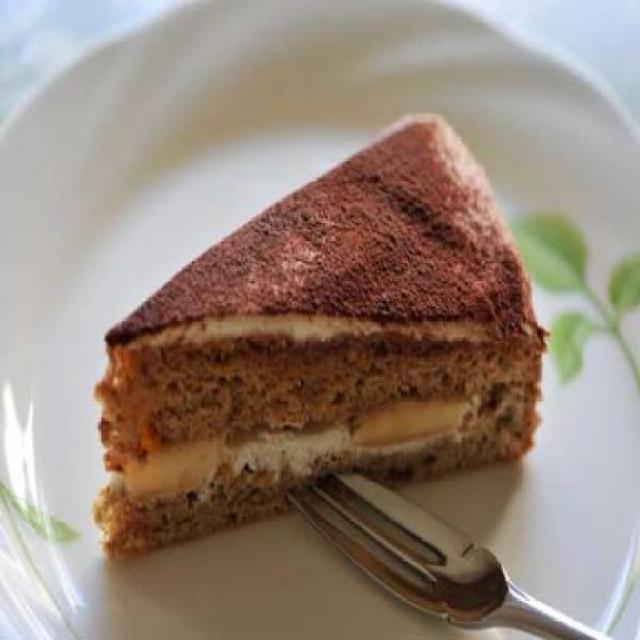Tiramisu: (89, 123, 534, 528)
